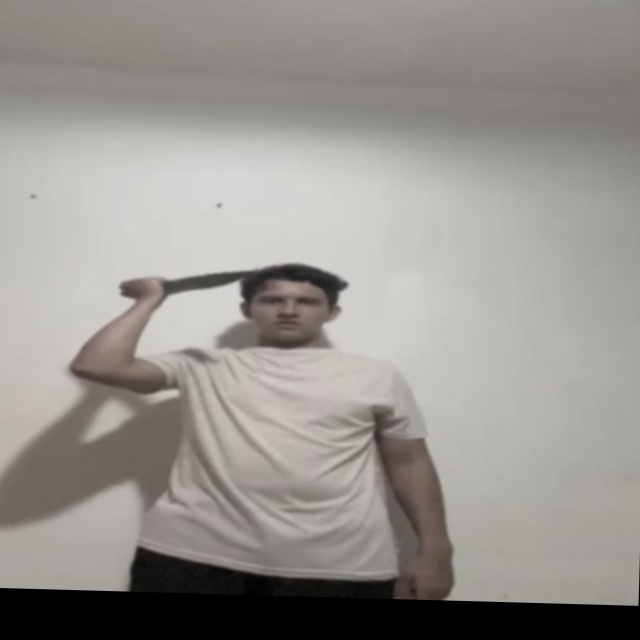Sharp-Object: (162, 267, 249, 296)
